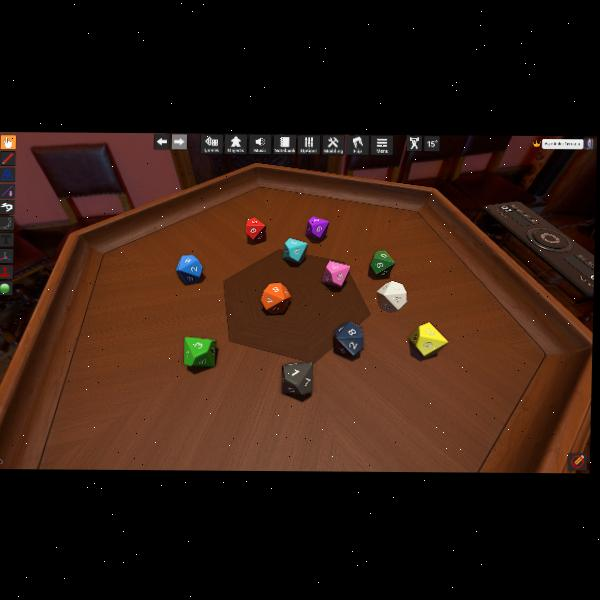d10: (409, 321, 444, 355), (281, 362, 312, 397), (184, 336, 217, 367), (261, 282, 292, 314), (335, 323, 362, 357), (176, 253, 204, 284), (378, 279, 405, 311), (321, 260, 349, 287), (282, 237, 307, 263), (370, 249, 394, 276), (306, 216, 328, 240), (246, 217, 266, 241)
